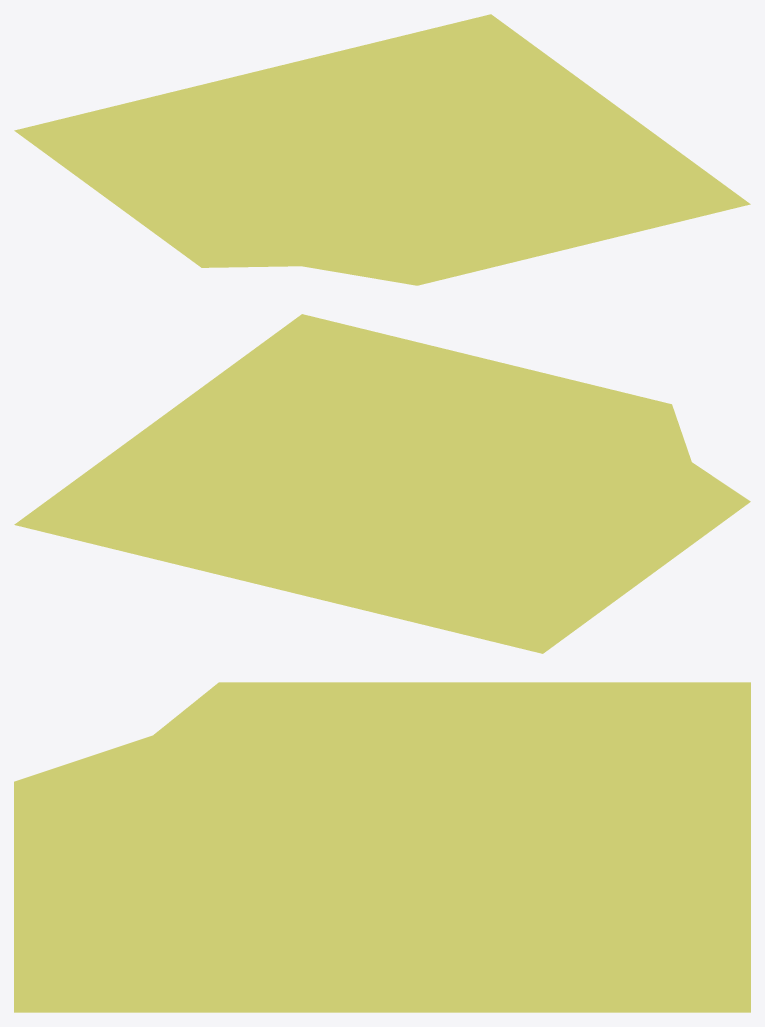
Rendered from KitchenFloor.fbx.
3 renders of one model, top to bottom at view 1: azimuth 30°, elevation 25°; view 2: azimuth 150°, elevation 25°; view 3: azimuth 270°, elevation 25°, orthographic. The views are drawn at different scales.
Visible parts, largest first — view 1: Kitchen_Dining; view 2: Kitchen_Dining; view 3: Kitchen_Dining.
Boxes of the visible parts, <box> form: Kitchen_Dining: <box>14,14,750,285</box>; Kitchen_Dining: <box>14,314,750,653</box>; Kitchen_Dining: <box>14,682,750,1012</box>.
Bounding box in the file's own units: 38.67 × 0 × 36.48.
